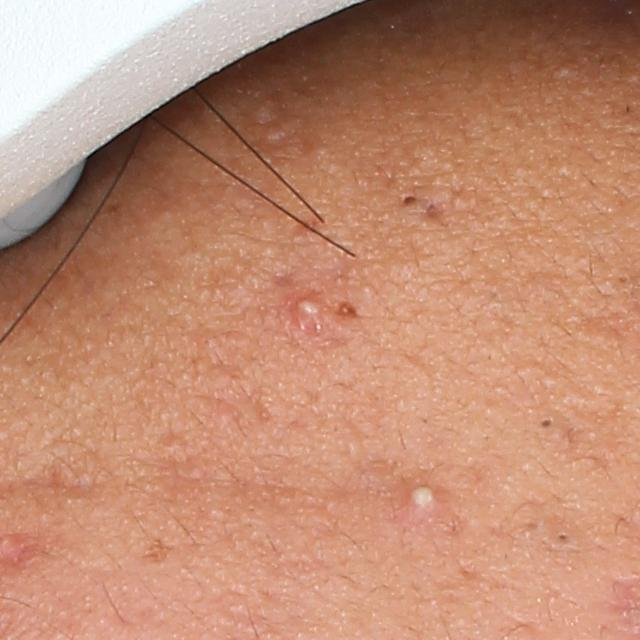comedo: (550, 529, 573, 546), (615, 272, 633, 285)
nevus: (330, 302, 362, 319)
pustule: (405, 477, 442, 511), (293, 287, 322, 319)
